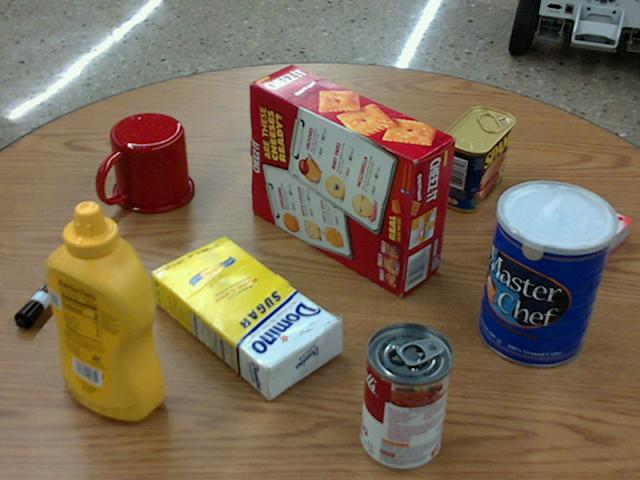cracker_box: (249, 66, 453, 295)
gelatin_box: (529, 192, 631, 271)
large_marker: (14, 242, 94, 325)
master_chef_can: (478, 180, 616, 366)
mug: (96, 113, 194, 213)
mustard_bottle: (44, 201, 162, 418)
potted_meat_can: (438, 106, 515, 211)
sugar_box: (149, 234, 341, 400)
tomato_soup_can: (359, 323, 452, 470)
tuna_fish_can: (253, 78, 326, 151)
